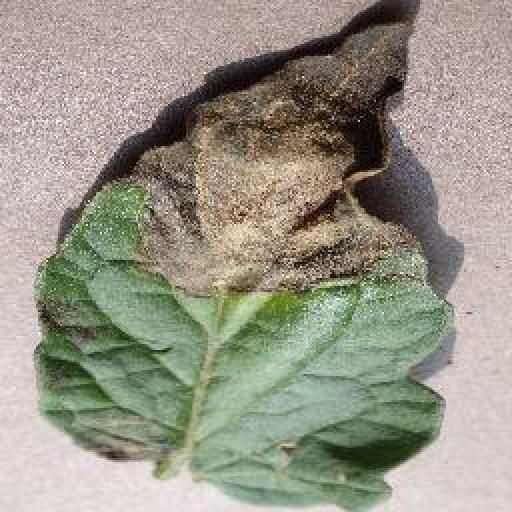disease_tomato: (32, 16, 455, 512)
